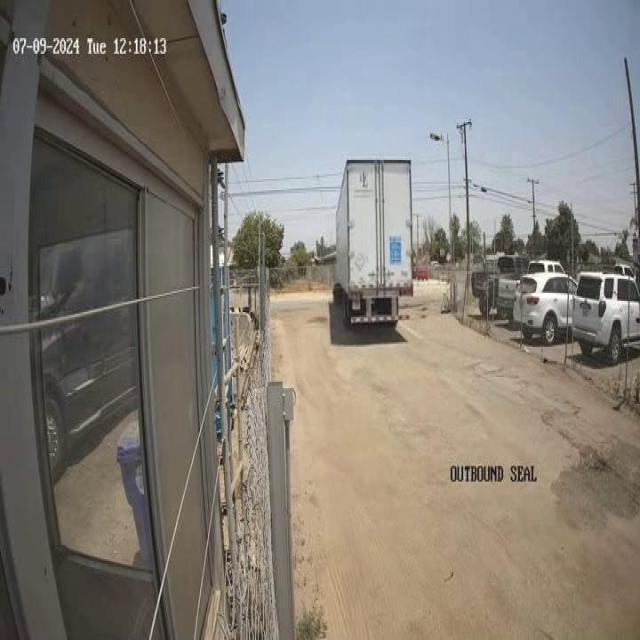TRUCK_CONTAINER: (332, 157, 414, 326)
